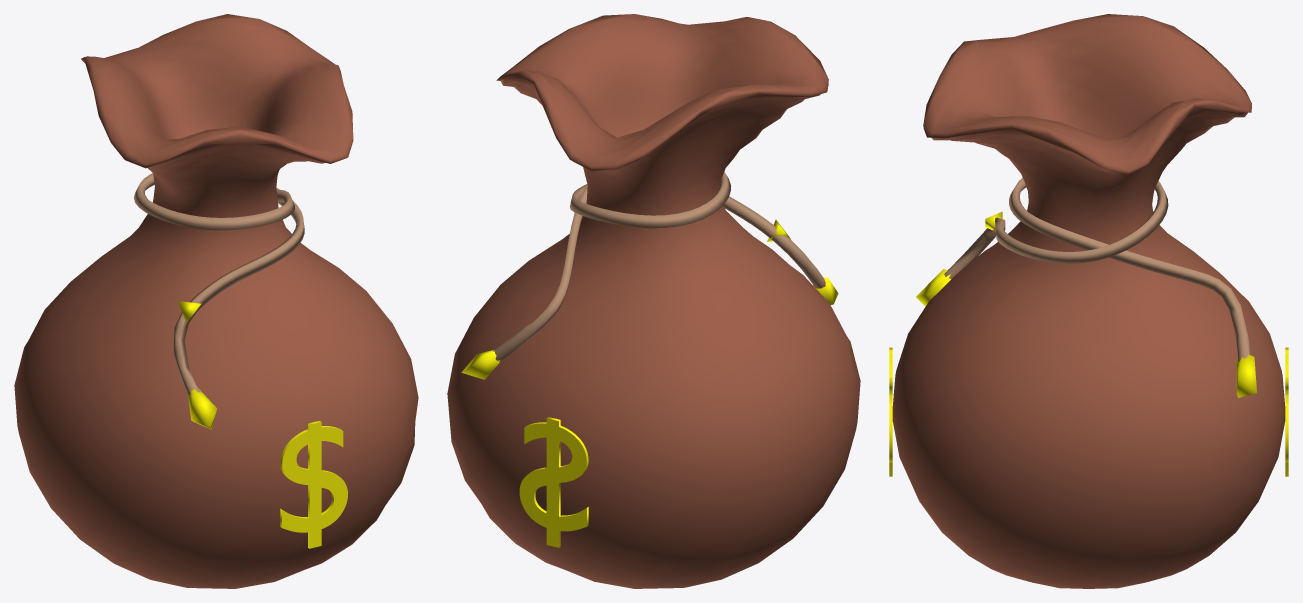
The model's file is saco (1).fbx.
3 views of the same model, side by side, from view 1: azimuth 30°, elevation 25°; view 2: azimuth 150°, elevation 25°; view 3: azimuth 270°, elevation 25° (orthographic). The views are drawn at different scales.
Parts seen in each view (by area): view 1: Cube, Text; view 2: Cube, Text; view 3: Cube, Text.
Boxes of the visible parts, x1,y1,x2,y2 form: Cube: [14, 14, 418, 588]; Text: [280, 420, 347, 548]; Cube: [447, 14, 860, 588]; Text: [519, 417, 588, 547]; Cube: [892, 14, 1285, 588]; Text: [889, 347, 1288, 476].
Bounding box in the file's own units: 300 × 423 × 304.
